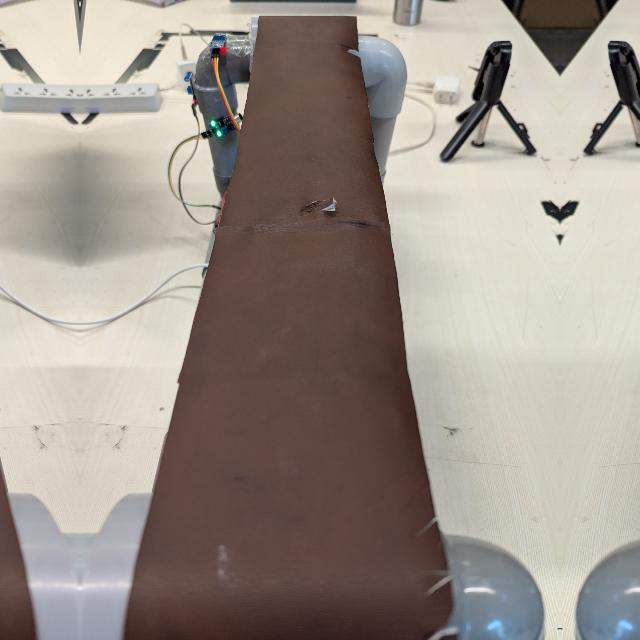joint_damage: (295, 183, 350, 226)
